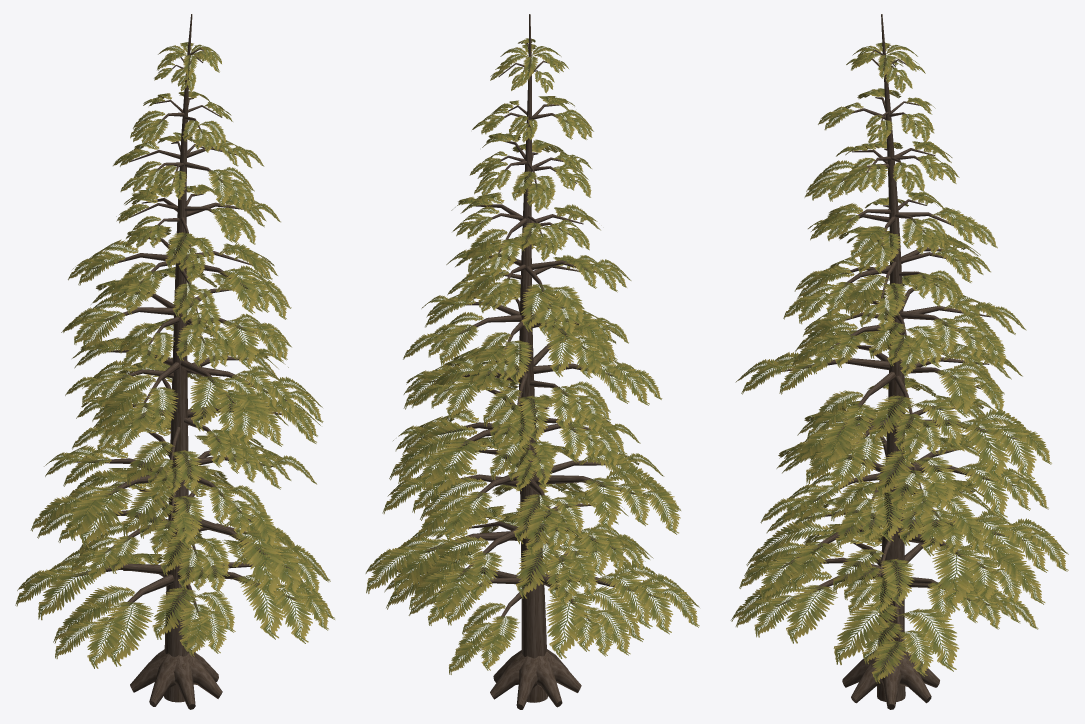
File: alpine_larch_tree.glb
The picture shows the model from 3 angles, left to right: view 1: azimuth 30°, elevation 25°; view 2: azimuth 150°, elevation 25°; view 3: azimuth 270°, elevation 25°; orthographic projection.
Parts seen in each view (by area): view 1: alpine_larch_tree; view 2: alpine_larch_tree; view 3: alpine_larch_tree.
Boxes of the visible parts, x1=… form: alpine_larch_tree: x1=15, y1=14, x2=334, y2=709; alpine_larch_tree: x1=365, y1=14, x2=699, y2=709; alpine_larch_tree: x1=730, y1=14, x2=1068, y2=709.
Bounding box in the file's own units: 4.4 × 9.8 × 4.4.
2 materials, 2 textured.
